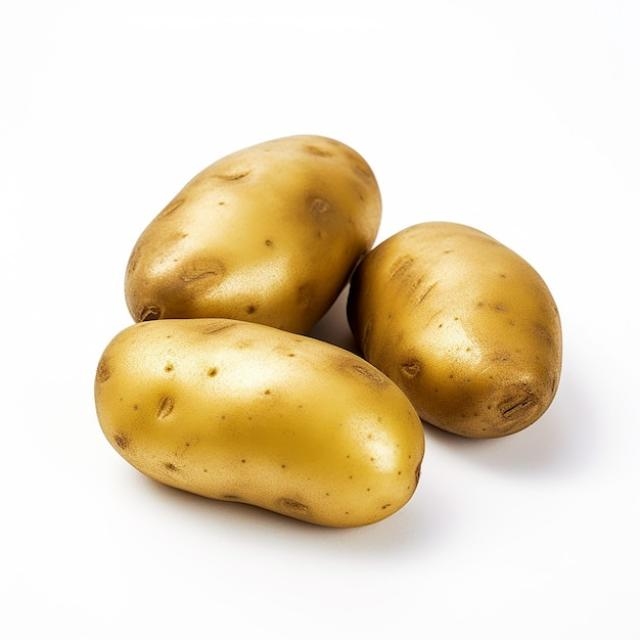Potato: (84, 295, 444, 531), (110, 125, 408, 390), (368, 206, 564, 445)
